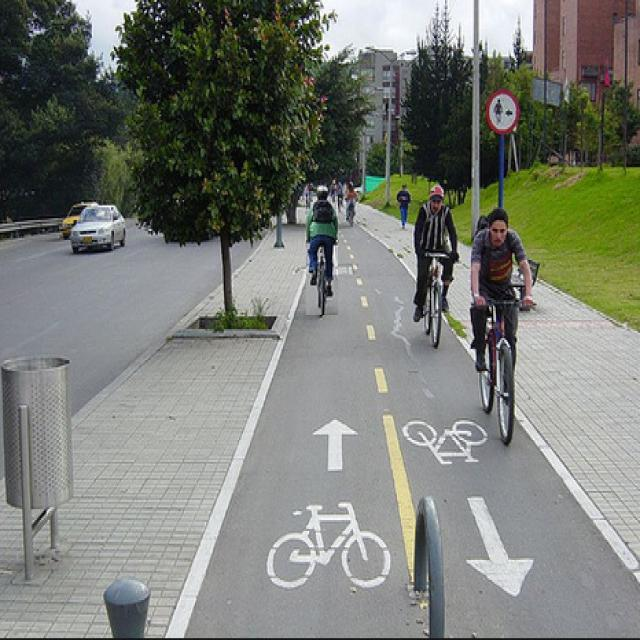bicycle: (470, 207, 534, 443), (414, 184, 459, 347), (306, 186, 338, 315)
